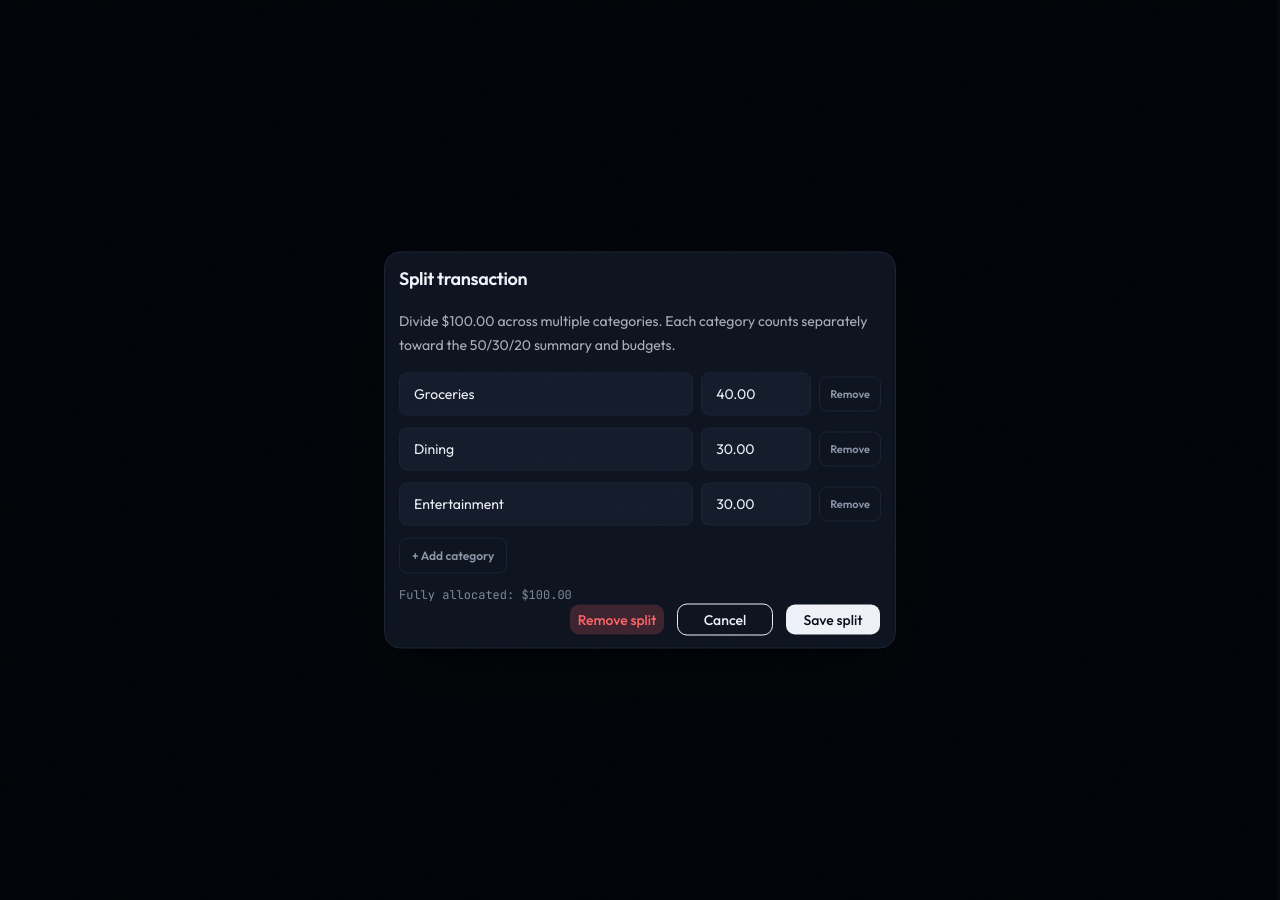
Scenario: SplitTransactionDialog › auto-fixes 3+ rows by distributing the remainder proportionally across the others
The width and height of the screenshot is (1280, 900).
Replace the text in the number field named "Split 1 amount" with "50": point(756, 394) [701,372,811,416]
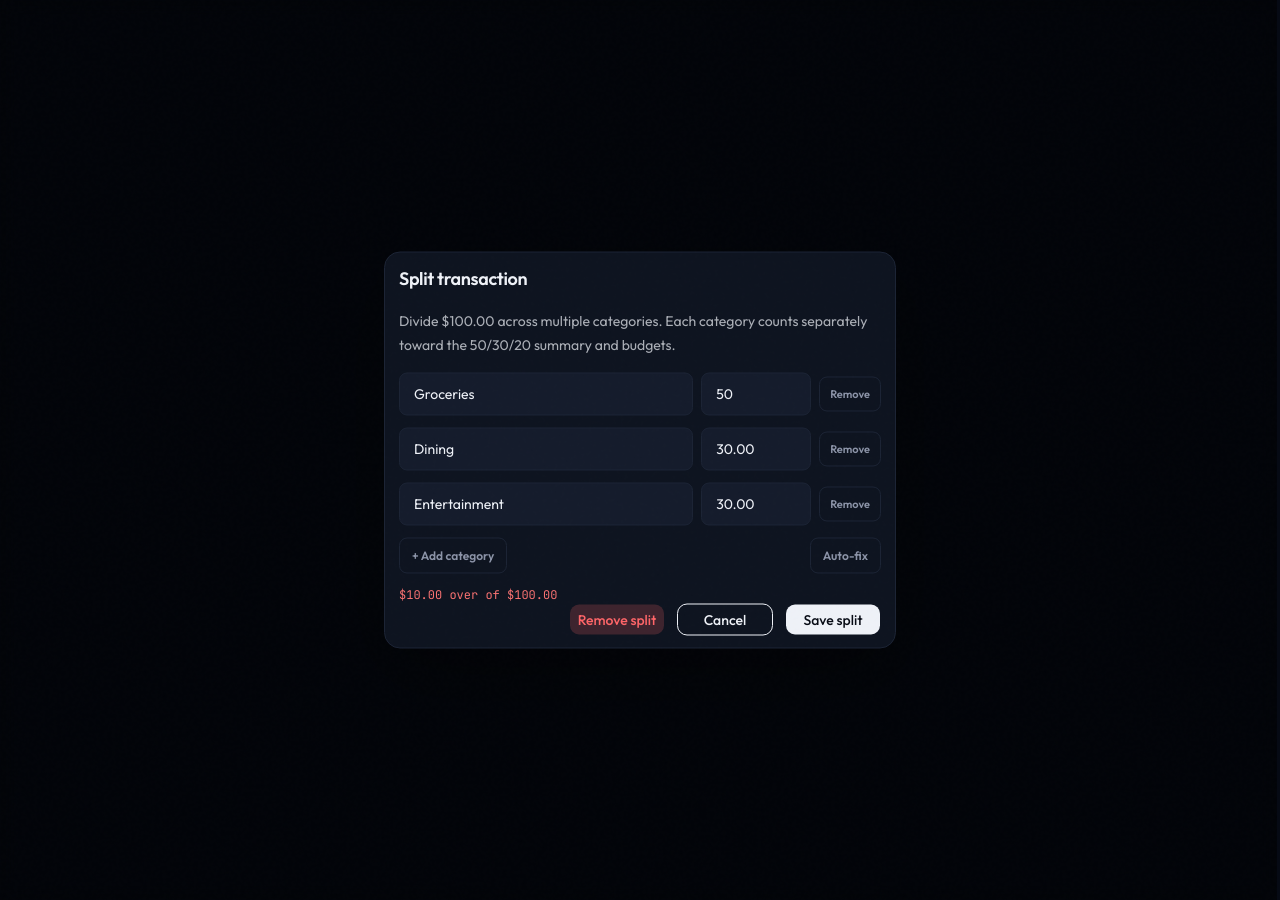
Click the button "Auto-fix": point(845, 556) [810,538,881,574]
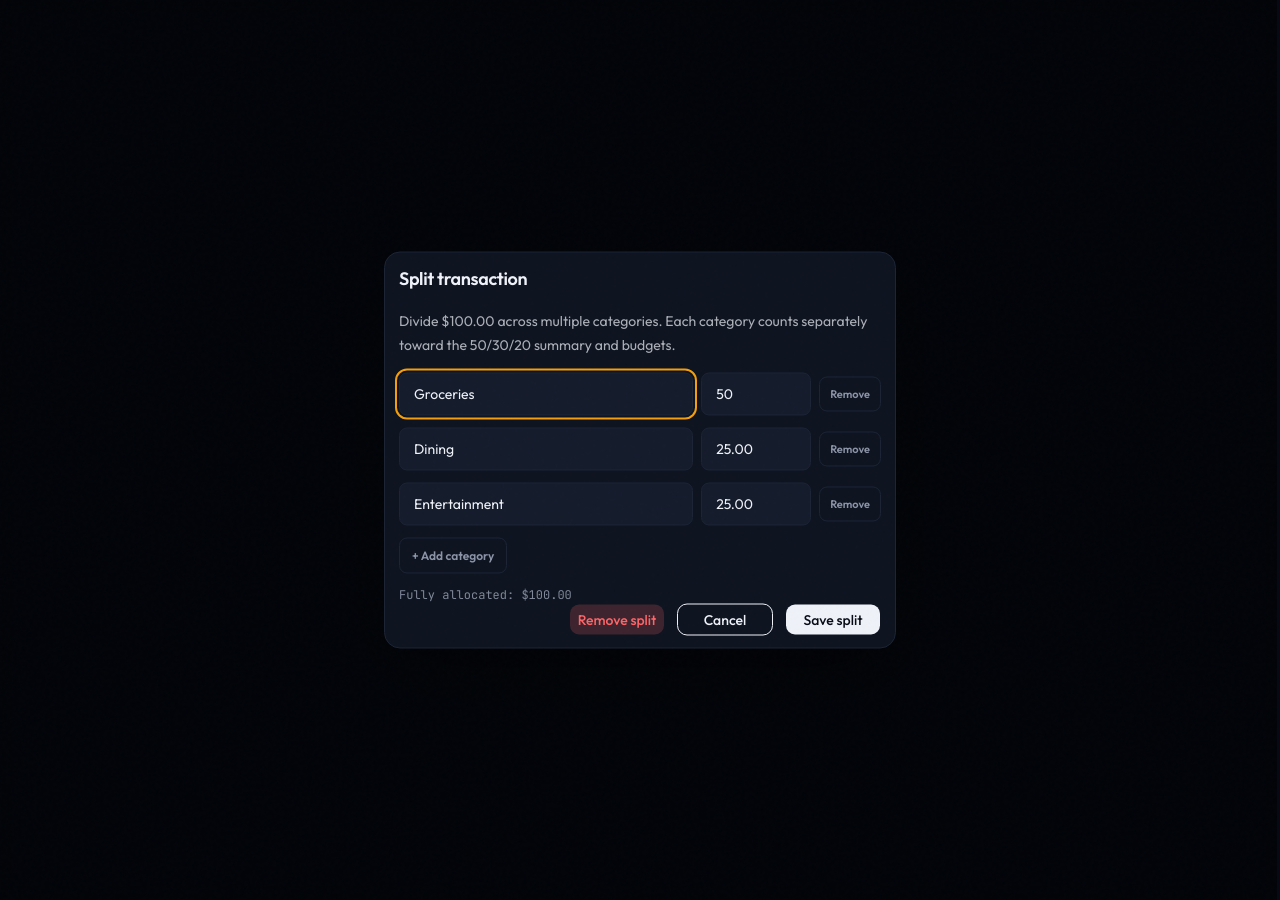
expect the number field named "Split 2 amount" holds "25": met, box [701,428,811,470]
expect the number field named "Split 3 amount" holds "25": met, box [701,482,811,526]
expect the button "Auto-fix" is gone: met
